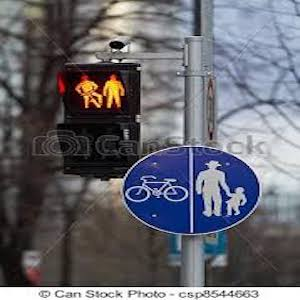red: (67, 71, 127, 108)
